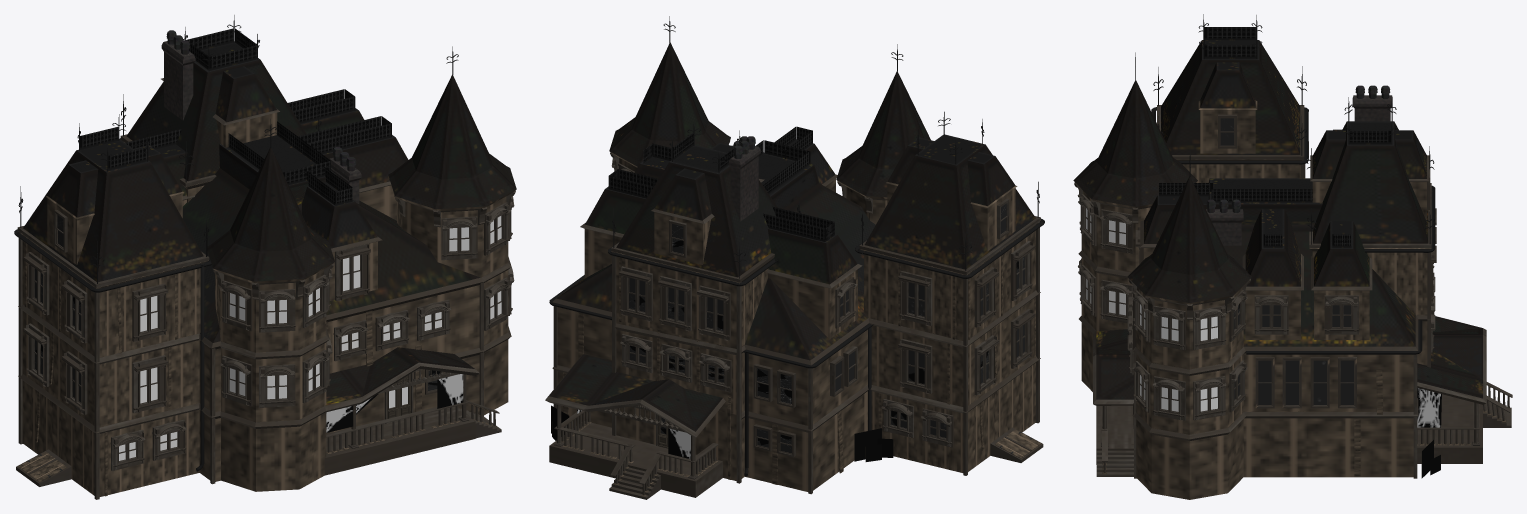
File: HountedHouse.fbx
The picture shows the model from 3 angles, left to right: view 1: azimuth 30°, elevation 25°; view 2: azimuth 150°, elevation 25°; view 3: azimuth 270°, elevation 25°; orthographic projection. The views are drawn at different scales.
Parts seen in each view (by area): view 1: tower2_Cylinder.001, base2-top-roof_Cube.006, tower1_Cylinder, base1-top-roof_Cube.003, base2-bottom_Cube.004, base2-middle_Cube.005, base3-top-roof_Cube.010, base1-middle_Cube.002, golv1_Cube.033, windowpart4_Cube.030, verandatak1_Cube.034, part1_Cube.014 (+54 smaller); view 2: base2-top-roof_Cube.006, base3-top-roof_Cube.010, base1-top-roof_Cube.003, windowpart2_Cube.012, base2-bottom_Cube.004, base1-middle_Cube.002, verandatak2_Cube.029, tower1_Cylinder, base2-middle_Cube.005, base1-bottom_Cube, tower2_Cylinder.001, golv2_Cube.028 (+47 smaller); view 3: tower1_Cylinder, base3-top-roof_Cube.010, tower2_Cylinder.001, base2-top-roof_Cube.006, base1-bottom_Cube, base1-top-roof_Cube.003, base1-middle_Cube.002, windowpart3_Cube.013, verandatak2_Cube.029, windowpart2_Cube.012, windowpart4_Cube.030, part1_Cube.014 (+42 smaller).
Part boxes in pixels (bbox=[...]): tower2_Cylinder.001: bbox=[207, 148, 334, 491]; base2-top-roof_Cube.006: bbox=[18, 139, 208, 357]; tower1_Cylinder: bbox=[388, 74, 516, 415]; base1-top-roof_Cube.003: bbox=[182, 135, 480, 342]; base2-bottom_Cube.004: bbox=[22, 380, 199, 496]; base2-middle_Cube.005: bbox=[22, 304, 199, 426]; base3-top-roof_Cube.010: bbox=[126, 41, 306, 202]; base1-middle_Cube.002: bbox=[199, 278, 479, 411]; golv1_Cube.033: bbox=[324, 406, 475, 475]; windowpart4_Cube.030: bbox=[46, 145, 183, 264]; verandatak1_Cube.034: bbox=[324, 347, 479, 412]; part1_Cube.014: bbox=[215, 66, 277, 147]; base2-top-roof_Cube.006: bbox=[860, 134, 1039, 340]; base3-top-roof_Cube.010: bbox=[611, 145, 777, 348]; base1-top-roof_Cube.003: bbox=[556, 152, 875, 360]; windowpart2_Cube.012: bbox=[584, 186, 857, 339]; base2-bottom_Cube.004: bbox=[871, 358, 1035, 472]; base1-middle_Cube.002: bbox=[556, 278, 867, 425]; verandatak2_Cube.029: bbox=[545, 354, 725, 437]; tower1_Cylinder: bbox=[609, 42, 730, 171]; base2-middle_Cube.005: bbox=[871, 290, 1035, 406]; base1-bottom_Cube: bbox=[557, 371, 867, 491]; tower2_Cylinder.001: bbox=[836, 71, 930, 224]; golv2_Cube.028: bbox=[549, 421, 722, 497]; tower1_Cylinder: bbox=[1127, 176, 1251, 499]; base3-top-roof_Cube.010: bbox=[1309, 121, 1431, 314]; tower2_Cylinder.001: bbox=[1073, 80, 1197, 391]; base2-top-roof_Cube.006: bbox=[1161, 40, 1303, 182]; base1-bottom_Cube: bbox=[1243, 411, 1413, 477]; base1-top-roof_Cube.003: bbox=[1208, 178, 1415, 346]; base1-middle_Cube.002: bbox=[1243, 353, 1413, 411]; windowpart3_Cube.013: bbox=[1245, 209, 1301, 339]; verandatak2_Cube.029: bbox=[1417, 316, 1486, 404]; windowpart2_Cube.012: bbox=[1314, 221, 1369, 339]; windowpart4_Cube.030: bbox=[1198, 62, 1257, 153]; part1_Cube.014: bbox=[1312, 130, 1426, 221].
Bounding box in the file's own units: 2771 × 2025 × 2440.
